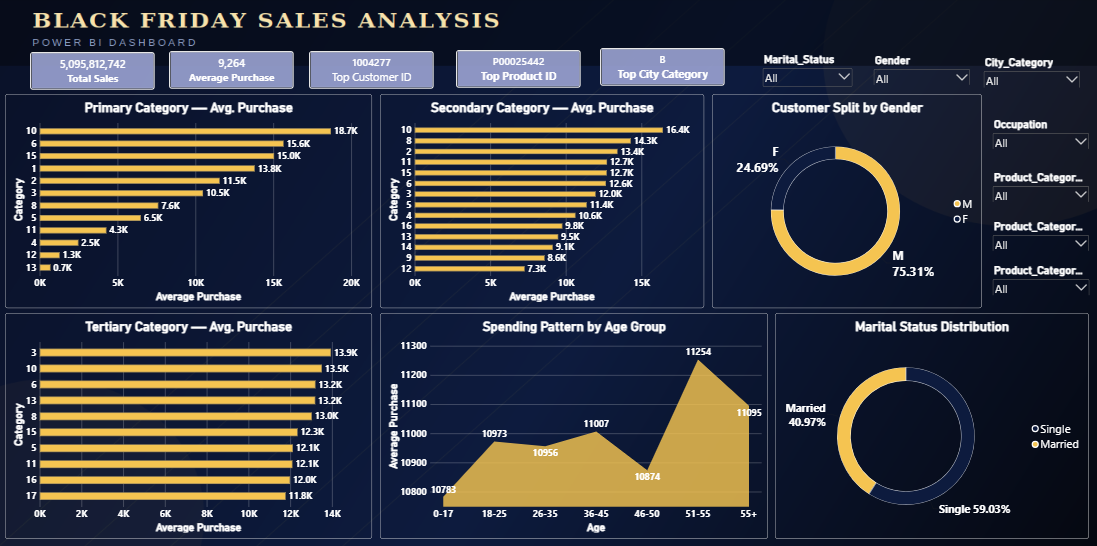

Layout of this report page (visuals, bound fields, positions):
{"tool":"powerbi","page":{"name":"Executive Dashboard","canvas":[3000,1500],"ordinal":0},"visuals":[{"type":"slicer","fields":{"Values":["blackfriday sales.Gender"]},"box":[2383.6,155.5,272,84],"z":1000},{"type":"slicer","fields":{"Values":["blackfriday sales.City_Category"]},"box":[2683.6,160.9,272,86],"z":2000},{"type":"slicer","fields":{"Values":["blackfriday sales.Occupation"]},"box":[2707.2,329,272,84],"z":3000},{"type":"slicer","fields":{"Values":["blackfriday sales.Product_Category_1"]},"box":[2707.2,474,272,84],"z":4000},{"type":"slicer","fields":{"Values":["blackfriday sales.Product_Category_2"]},"box":[2707.2,607.8,272,84],"z":5000},{"type":"slicer","fields":{"Values":["blackfriday sales.Product_Category_3"]},"box":[2707.2,727.7,272.5,85],"z":6000},{"type":"lineStackedColumnComboChart","title":"Spending Pattern by Age Group","fields":{"Category":["blackfriday sales.Age"],"Y2":["Avg(blackfriday sales.Purchase)"]},"box":[1041.8,861.8,1058.2,616.4],"z":7000},{"type":"clusteredBarChart","title":"Primary Category — Avg. Purchase","fields":{"Category":["blackfriday sales.Product_Category_1"],"Y":["Avg(blackfriday sales.Purchase)"]},"box":[19.1,264.5,1000.9,583.6],"z":8000},{"type":"clusteredBarChart","title":"Secondary Category — Avg. Purchase","fields":{"Category":["blackfriday sales.Product_Category_2"],"Y":["Avg(blackfriday sales.Purchase)"]},"box":[1041.8,264.5,883.6,583.6],"z":9000},{"type":"clusteredBarChart","title":"Tertiary Category — Avg. Purchase","fields":{"Category":["blackfriday sales.Product_Category_3"],"Y":["Avg(blackfriday sales.Purchase)"]},"box":[19.1,861.8,1000.9,616.4],"z":10000},{"type":"donutChart","title":"Customer Split by Gender","fields":{"Category":["blackfriday sales.Gender"],"Y":["CountNonNull(blackfriday sales.Gender)"]},"box":[1947.3,264.5,736.4,583.6],"z":11000},{"type":"donutChart","title":"Marital Status Distribution","fields":{"Category":["blackfriday sales.Marital_Status_Label"],"Y":["CountNonNull(blackfriday sales.Marital_Status_Label)"]},"box":[2119,861.5,855.9,616.2],"z":12000},{"type":"cardVisual","fields":{"Data":["Sum(blackfriday sales.Purchase)"]},"box":[87.3,150,340,102.5],"z":13000},{"type":"cardVisual","fields":{"Data":["Avg(blackfriday sales.Purchase)"]},"box":[465,147.5,340,102.5],"z":14000},{"type":"cardVisual","fields":{"Data":["blackfriday sales.Top Customer ID"]},"box":[849.5,146.7,340,102.5],"z":15000},{"type":"cardVisual","fields":{"Data":["blackfriday sales.Top Product ID"]},"box":[1249.1,145,340,102.5],"z":16000},{"type":"cardVisual","fields":{"Data":["blackfriday sales.Top City Category"]},"box":[1641.8,139.1,340,102.5],"z":17000},{"type":"slicer","fields":{"Values":["blackfriday sales.Marital_Status"]},"box":[2080.9,152.7,253.6,95.5],"z":17001}]}

Visuals, with their boxes in screenshot pixels (x1, y1, x2, y2), scaled from the page's 3000x1500 canvas onto the 1097x546 screenshot:
slicer - blackfriday sales.Gender: bbox(872, 57, 971, 87)
slicer - blackfriday sales.City_Category: bbox(981, 59, 1081, 90)
slicer - blackfriday sales.Occupation: bbox(990, 120, 1089, 150)
slicer - blackfriday sales.Product_Category_1: bbox(990, 173, 1089, 203)
slicer - blackfriday sales.Product_Category_2: bbox(990, 221, 1089, 252)
slicer - blackfriday sales.Product_Category_3: bbox(990, 265, 1090, 296)
"Spending Pattern by Age Group" lineStackedColumnComboChart: bbox(381, 314, 768, 538)
"Primary Category — Avg. Purchase" clusteredBarChart: bbox(7, 96, 373, 309)
"Secondary Category — Avg. Purchase" clusteredBarChart: bbox(381, 96, 704, 309)
"Tertiary Category — Avg. Purchase" clusteredBarChart: bbox(7, 314, 373, 538)
"Customer Split by Gender" donutChart: bbox(712, 96, 981, 309)
"Marital Status Distribution" donutChart: bbox(775, 314, 1088, 538)
cardVisual - Sum(blackfriday sales.Purchase): bbox(32, 55, 156, 92)
cardVisual - Avg(blackfriday sales.Purchase): bbox(170, 54, 294, 91)
cardVisual - blackfriday sales.Top Customer ID: bbox(311, 53, 435, 91)
cardVisual - blackfriday sales.Top Product ID: bbox(457, 53, 581, 90)
cardVisual - blackfriday sales.Top City Category: bbox(600, 51, 725, 88)
slicer - blackfriday sales.Marital_Status: bbox(761, 56, 854, 90)
